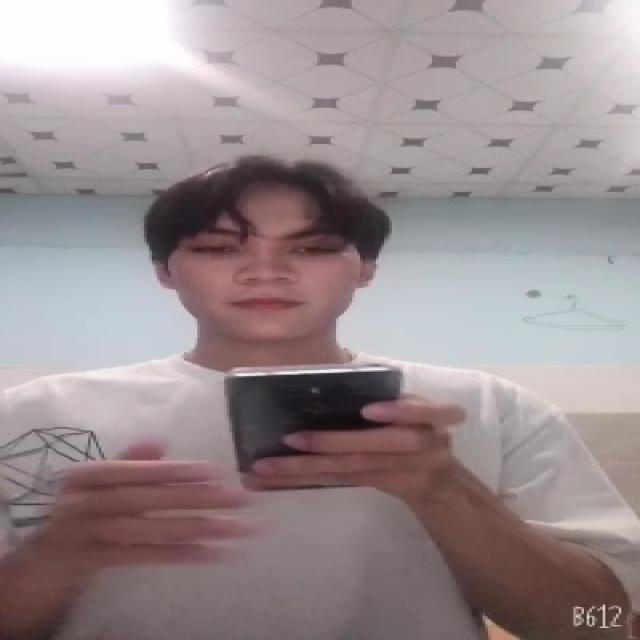Phone: (223, 362, 409, 491)
